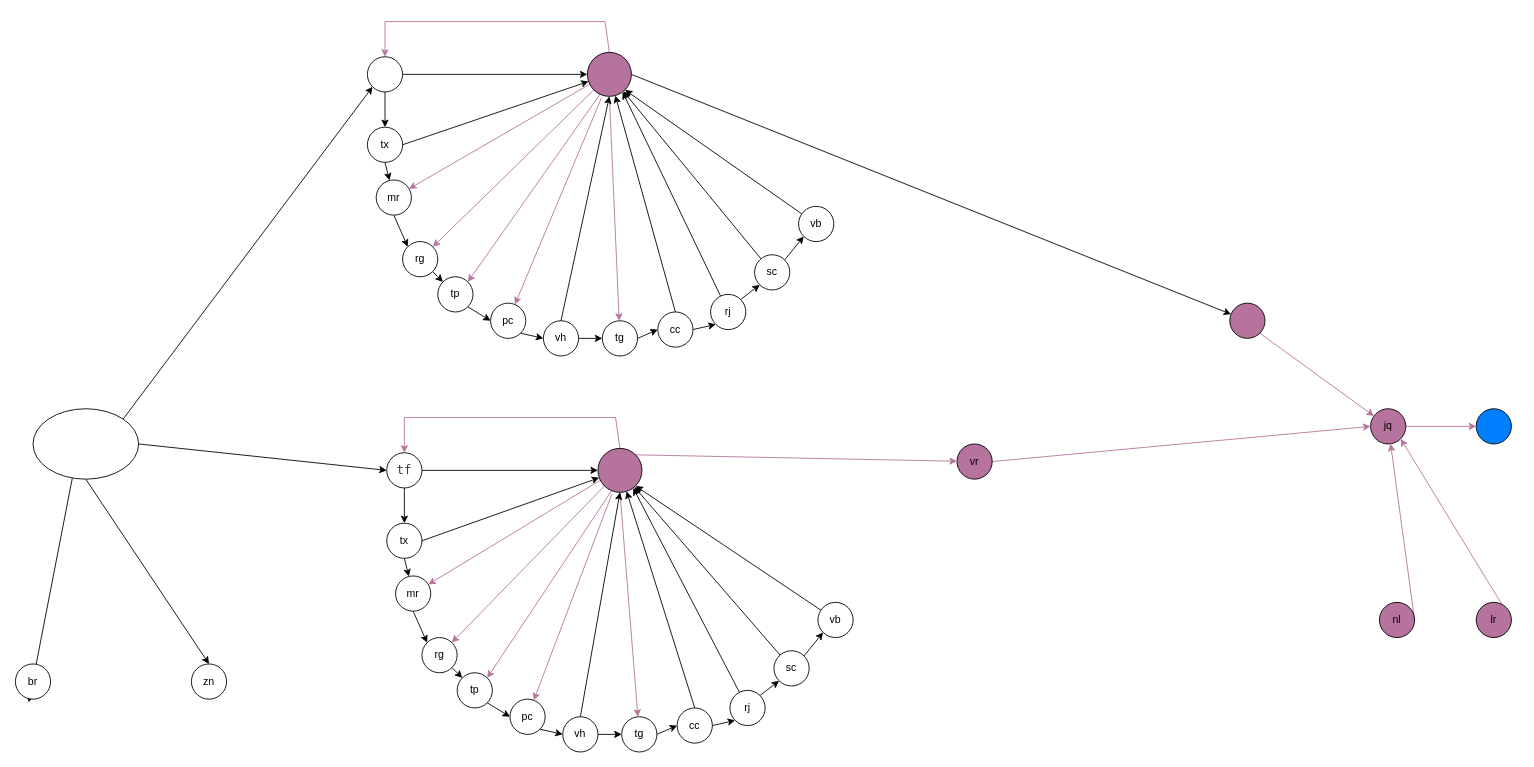
This 1534x767 diagram has some shape labels left out. The shapes that lost their labels are listed below. From the top down, each one's centre as x and y in pixels, then its label:
At pixel 385 74: "nc".
At pixel 609 73: "hh".
At pixel 1247 320: "gt".
At pixel 85 443: "Broadcast".
At pixel 1493 426: "rx".
At pixel 619 469: "ck".
